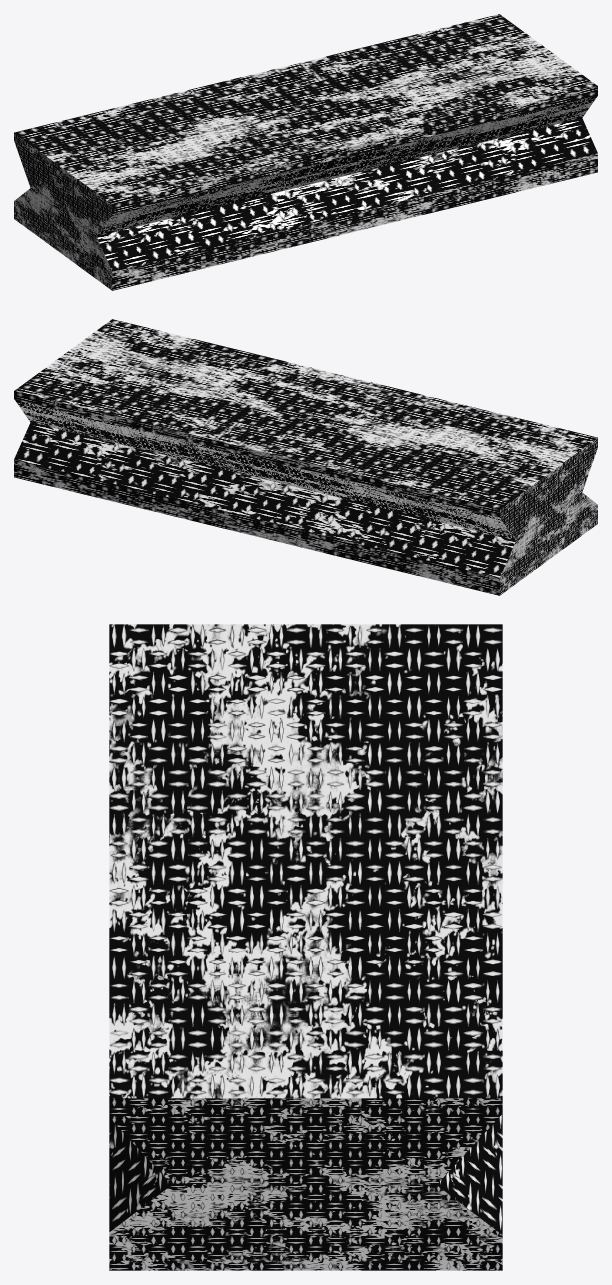
The model's file is mETAL.fbx.
The picture shows the model from 3 angles, top to bottom: view 1: azimuth 30°, elevation 25°; view 2: azimuth 150°, elevation 25°; view 3: azimuth 270°, elevation 25°; orthographic projection. The views are drawn at different scales.
Parts seen in each view (by area): view 1: Box098; view 2: Box098; view 3: Box098.
Boxes of the visible parts, bbox=[...] form: Box098: bbox=[14, 14, 597, 290]; Box098: bbox=[14, 319, 597, 595]; Box098: bbox=[109, 624, 502, 1270].
Bounding box in the file's own units: 91.06 × 15.46 × 31.94.
